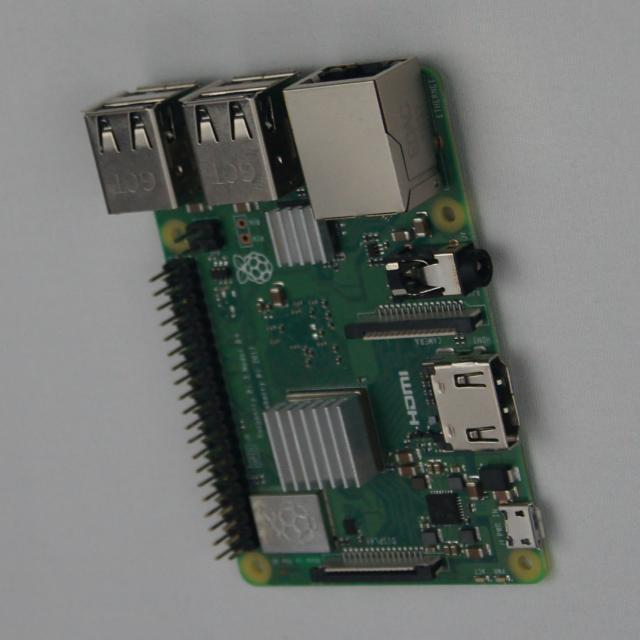Raspberry Pi 3 B-: (86, 59, 549, 585)
